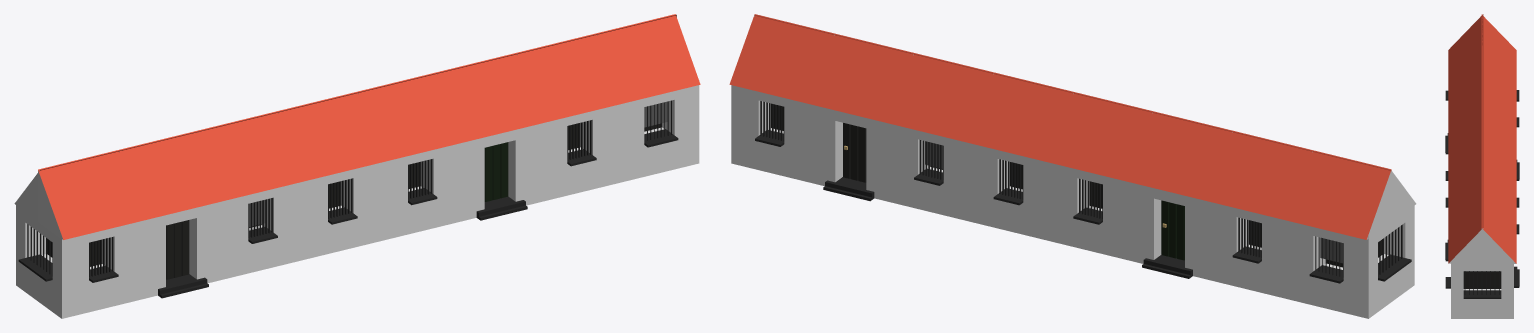
Rendered from Casa_Procedural_12.fbx.
3 views of the same model, side by side, from view 1: azimuth 30°, elevation 25°; view 2: azimuth 150°, elevation 25°; view 3: azimuth 270°, elevation 25° (orthographic). The views are drawn at different scales.
Parts seen in each view (by area): view 1: 12; view 2: 12; view 3: 12.
Boxes of the visible parts, x1,y1,x2,y2 form: 12: (14,14,700,318); 12: (729,14,1416,318); 12: (1445,14,1519,318).
Bounding box in the file's own units: 816 × 159 × 118.
